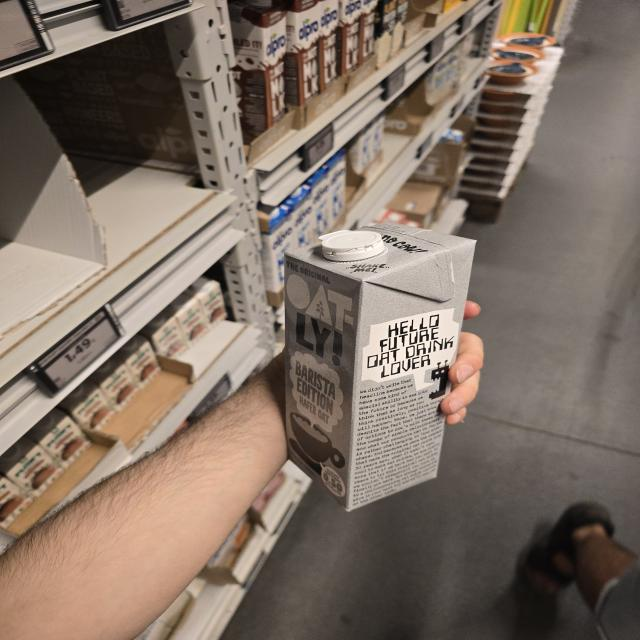Milk: (285, 217, 479, 509)
